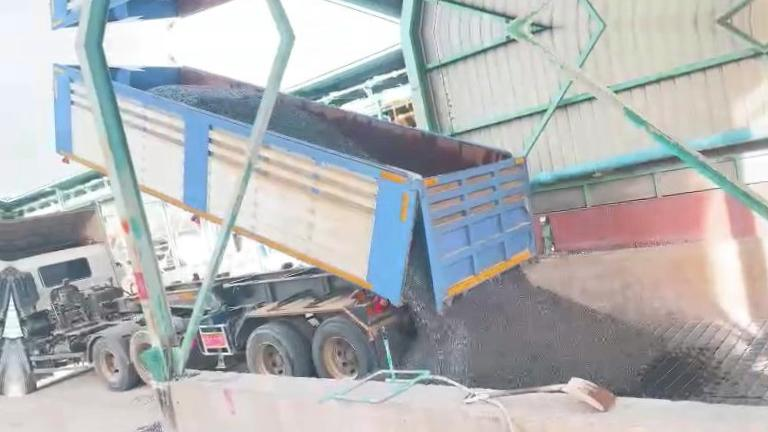gravel: (404, 225, 668, 394), (270, 100, 371, 158), (150, 85, 263, 123), (72, 422, 184, 432)
